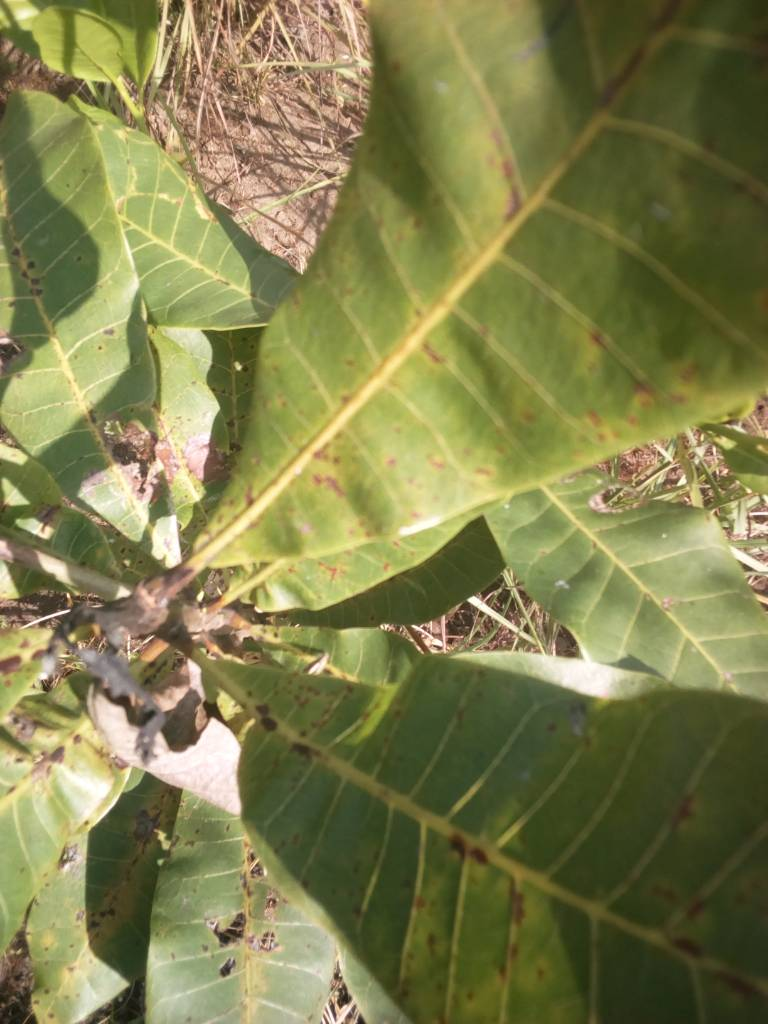Anthracnose: (202, 653, 768, 1024), (5, 700, 171, 1024), (147, 811, 393, 1024)
